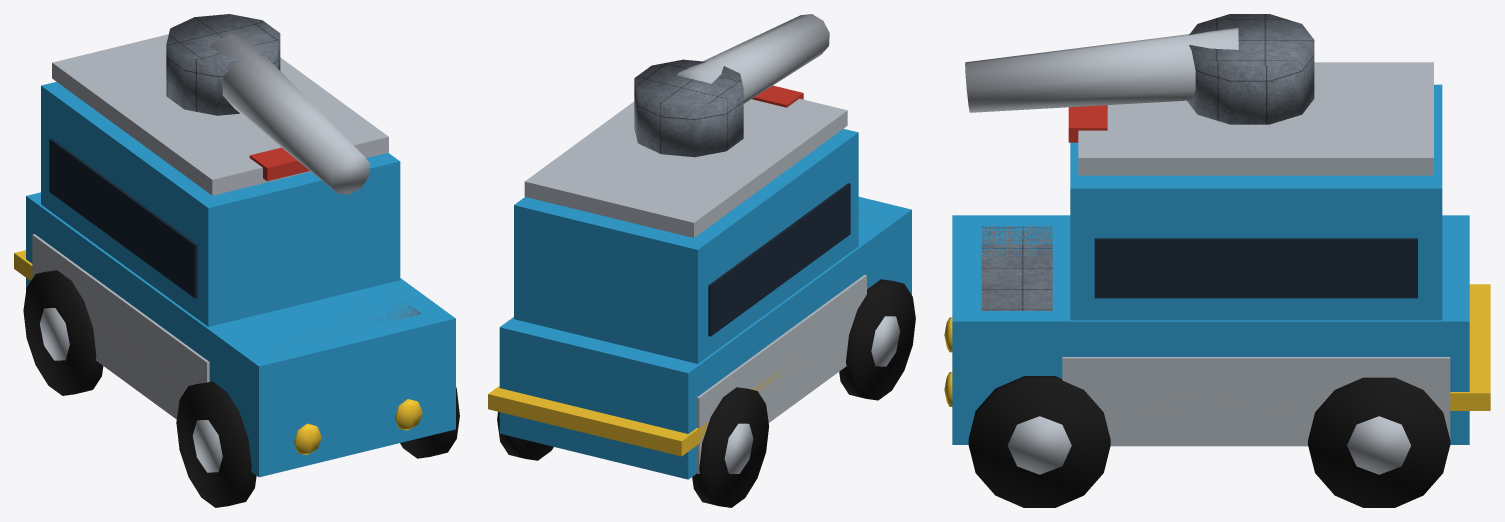
Rendered from siege_sunda.glb.
3 renders of one model, left to right at view 1: azimuth 30°, elevation 25°; view 2: azimuth 150°, elevation 25°; view 3: azimuth 270°, elevation 25°, orthographic. The views are drawn at different scales.
Visible parts, largest first — view 1: siege_sunda; view 2: siege_sunda; view 3: siege_sunda.
Part boxes in pixels (left/top/right/bottom): siege_sunda: left=14, top=14, right=459, bottom=507; siege_sunda: left=488, top=14, right=915, bottom=507; siege_sunda: left=944, top=14, right=1490, bottom=507.
Size of the model in its own units: 0.88 by 1.43 by 1.69.
Materials: 7 (1 with a texture image).
